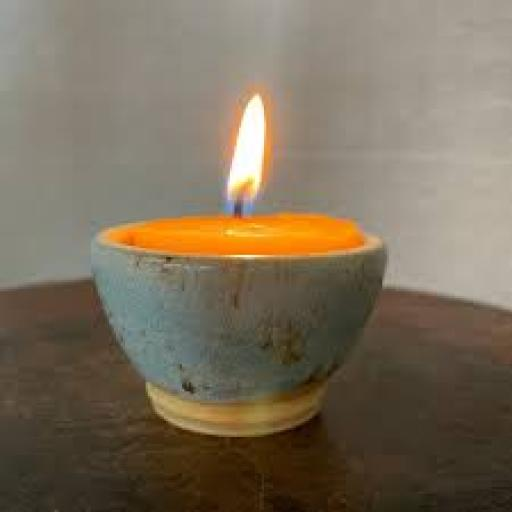fire: (137, 86, 325, 253)
